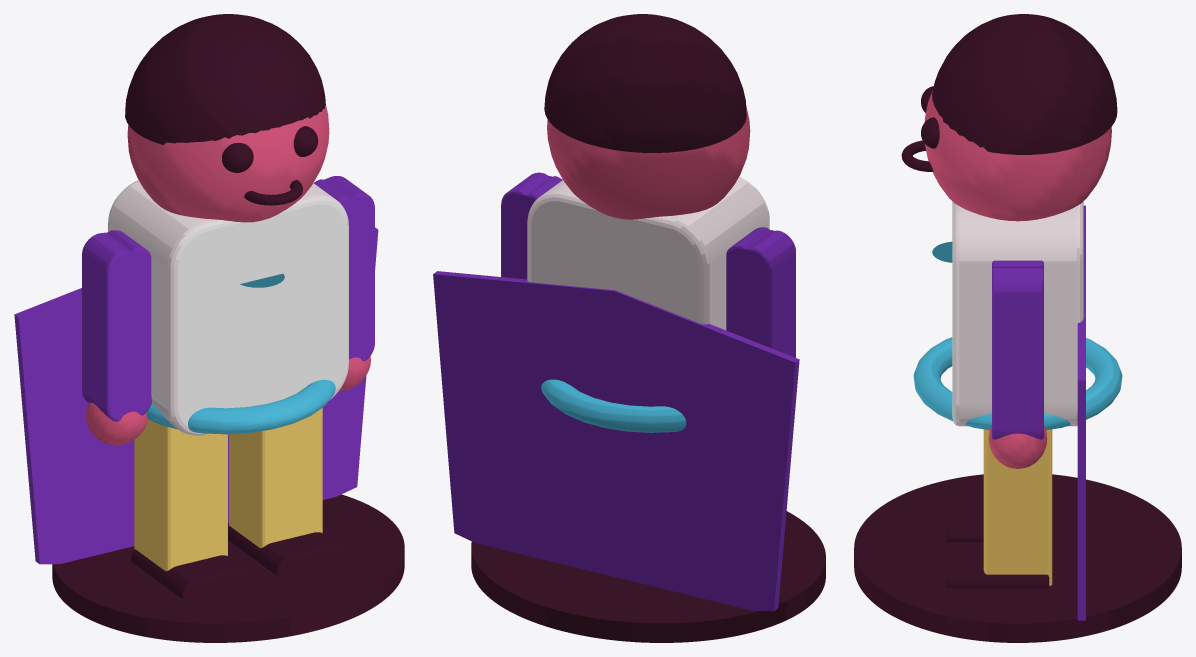
Rendered from 1241_三国演义1_刘备·桃园结义.glb.
3 renders of one model, left to right at view 1: azimuth 30°, elevation 25°; view 2: azimuth 150°, elevation 25°; view 3: azimuth 270°, elevation 25°, orthographic.
Parts seen in each view (by area): view 1: card_1241; view 2: card_1241; view 3: card_1241.
Part boxes in pixels (left/top/right/bottom): card_1241: left=14, top=14, right=404, bottom=642; card_1241: left=433, top=14, right=825, bottom=642; card_1241: left=854, top=14, right=1181, bottom=642.
Bounding box in the file's own units: 0.6739 × 1 × 0.5347.
